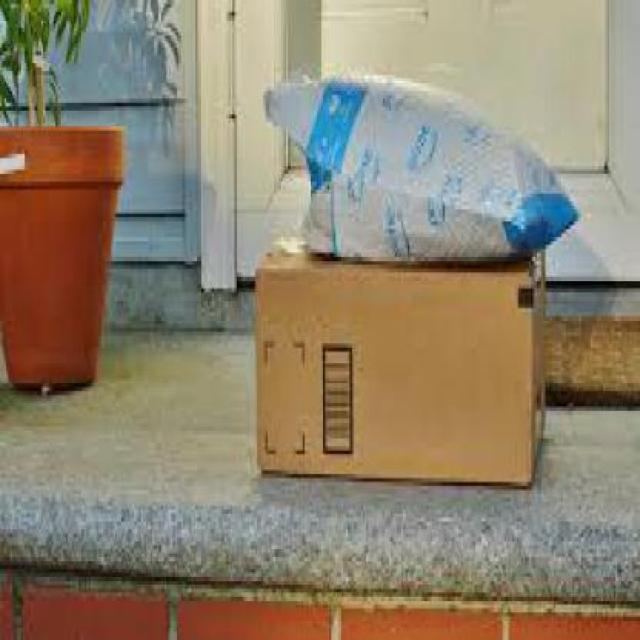cardboxes: (252, 230, 548, 492)
